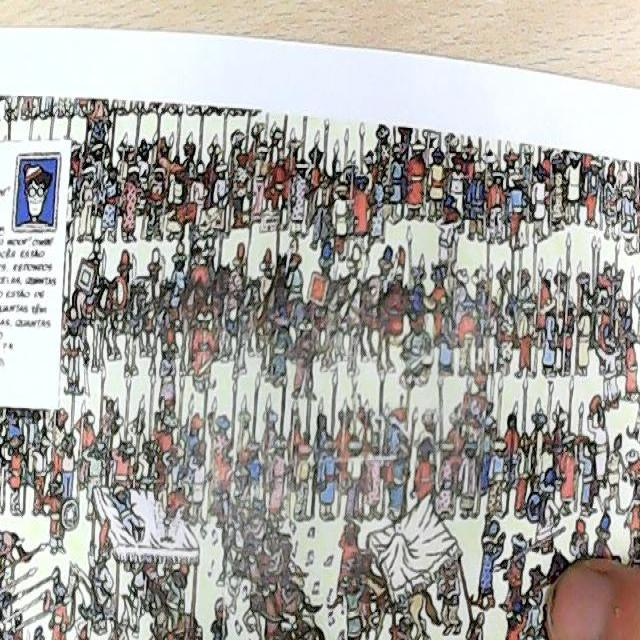waldo: (20, 162, 52, 227), (191, 241, 203, 271)
